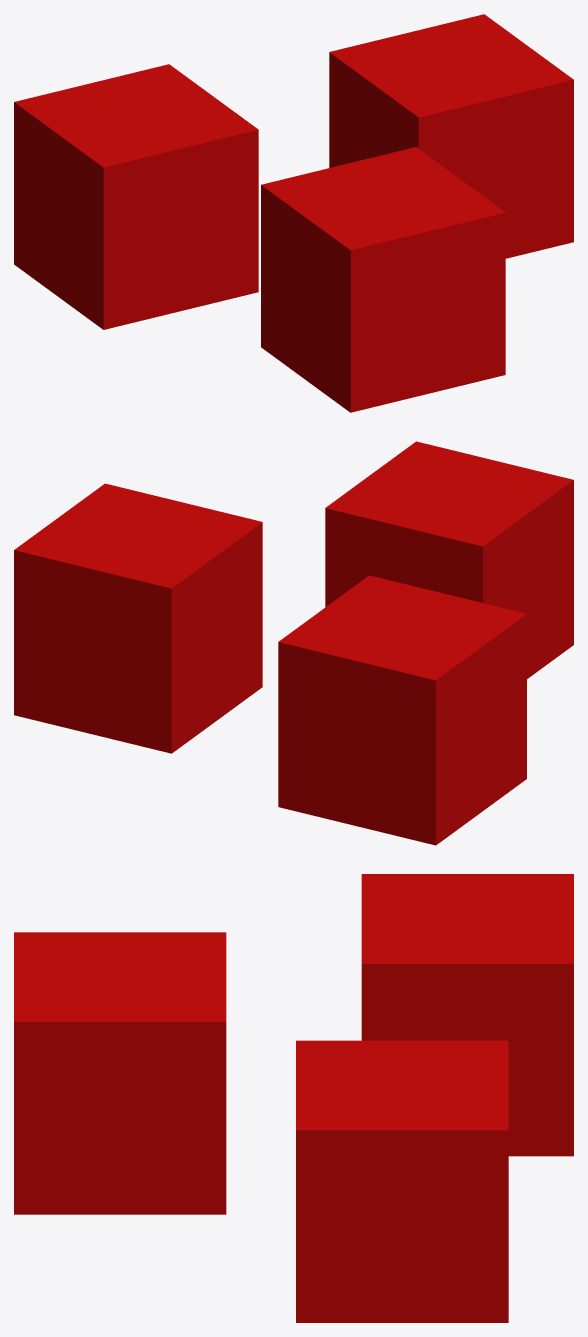
File: orem1.obj
3 views of the same model, one above another, from view 1: azimuth 30°, elevation 25°; view 2: azimuth 150°, elevation 25°; view 3: azimuth 270°, elevation 25° (orthographic). The views are drawn at different scales.
Parts seen in each view (by area): view 1: Cube.006; view 2: Cube.006; view 3: Cube.006.
Part boxes in pixels (bbox=[...]): Cube.006: bbox=[14, 14, 573, 412]; Cube.006: bbox=[14, 441, 573, 845]; Cube.006: bbox=[14, 874, 573, 1322].
Bounding box in the file's own units: 1.63 × 0.5729 × 1.51.
